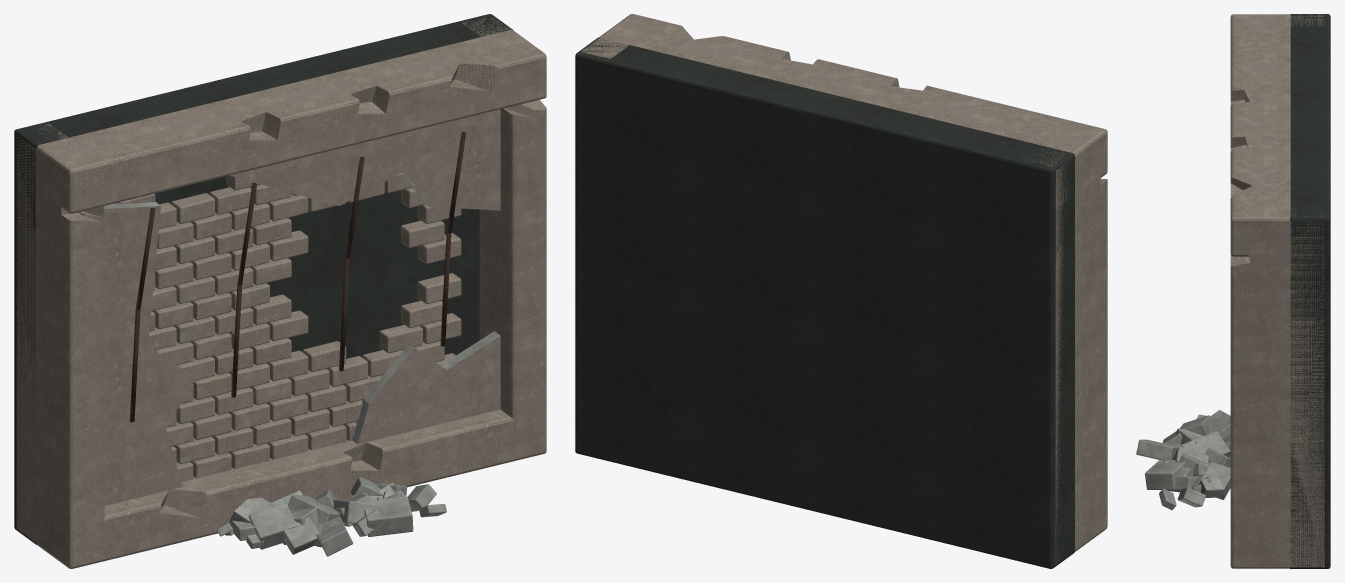
File: f3_v3_spalled_wall.glb
3 renders of one model, left to right at view 1: azimuth 30°, elevation 25°; view 2: azimuth 150°, elevation 25°; view 3: azimuth 270°, elevation 25°, orthographic. The views are drawn at different scales.
Parts seen in each view (by area): view 1: f3_weathered_concrete_surface, f3_aged_brick_infill_surface, f3_deep_crack_surface, f3_exposed_aggregate_surface, f3_oxidized_iron_surface; view 2: f3_deep_crack_surface, f3_weathered_concrete_surface; view 3: f3_weathered_concrete_surface, f3_deep_crack_surface, f3_exposed_aggregate_surface.
Part boxes in pixels (x1,y1,x2,y2): f3_weathered_concrete_surface: [16, 17, 546, 568]; f3_aged_brick_infill_surface: [112, 172, 461, 481]; f3_deep_crack_surface: [14, 14, 513, 544]; f3_exposed_aggregate_surface: [104, 171, 500, 556]; f3_oxidized_iron_surface: [129, 132, 466, 422]; f3_deep_crack_surface: [575, 37, 1074, 568]; f3_weathered_concrete_surface: [581, 14, 1107, 564]; f3_weathered_concrete_surface: [1230, 14, 1324, 568]; f3_deep_crack_surface: [1290, 14, 1330, 568]; f3_exposed_aggregate_surface: [1136, 410, 1230, 509].
Size of the model in its own units: 4 by 3.25 by 1.6.
5 materials, 5 textured.
